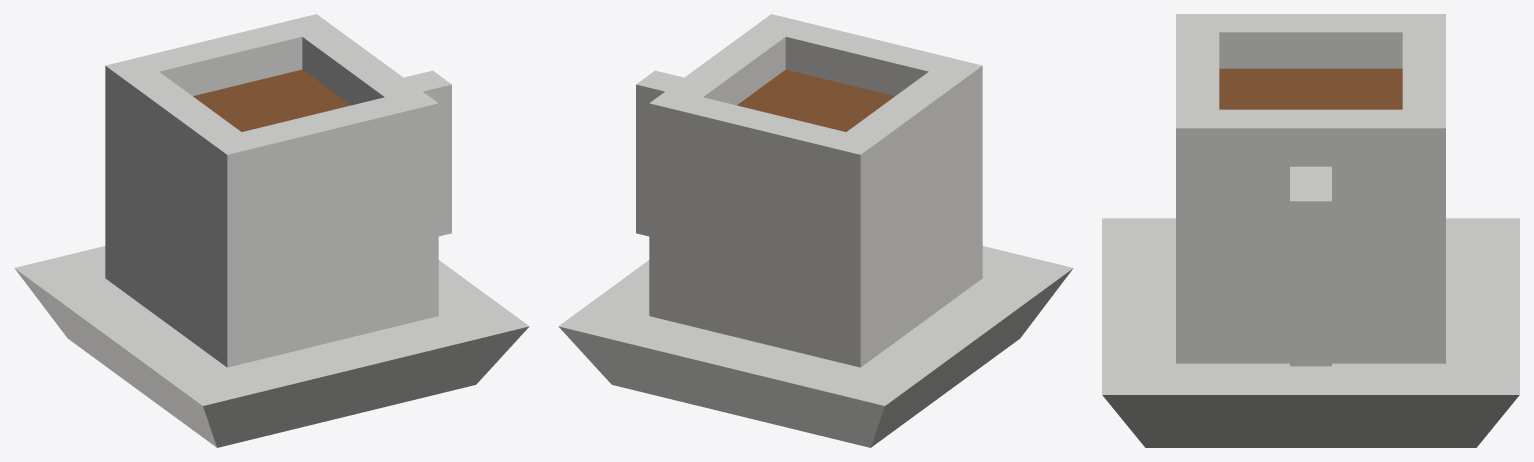
File: 020 Tea_Cup.fbx
The picture shows the model from 3 angles, left to right: view 1: azimuth 30°, elevation 25°; view 2: azimuth 150°, elevation 25°; view 3: azimuth 270°, elevation 25°; orthographic projection. The views are drawn at different scales.
Visible parts, largest first — view 1: Lowpoly_Christmas_Pack_020:pCube2; view 2: Lowpoly_Christmas_Pack_020:pCube2; view 3: Lowpoly_Christmas_Pack_020:pCube2.
Part boxes in pixels (bbox=[...]): Lowpoly_Christmas_Pack_020:pCube2: bbox=[14, 14, 529, 447]; Lowpoly_Christmas_Pack_020:pCube2: bbox=[558, 14, 1073, 447]; Lowpoly_Christmas_Pack_020:pCube2: bbox=[1102, 14, 1519, 447].
Bounding box in the file's own units: 0.7391 × 0.5867 × 0.7236.
